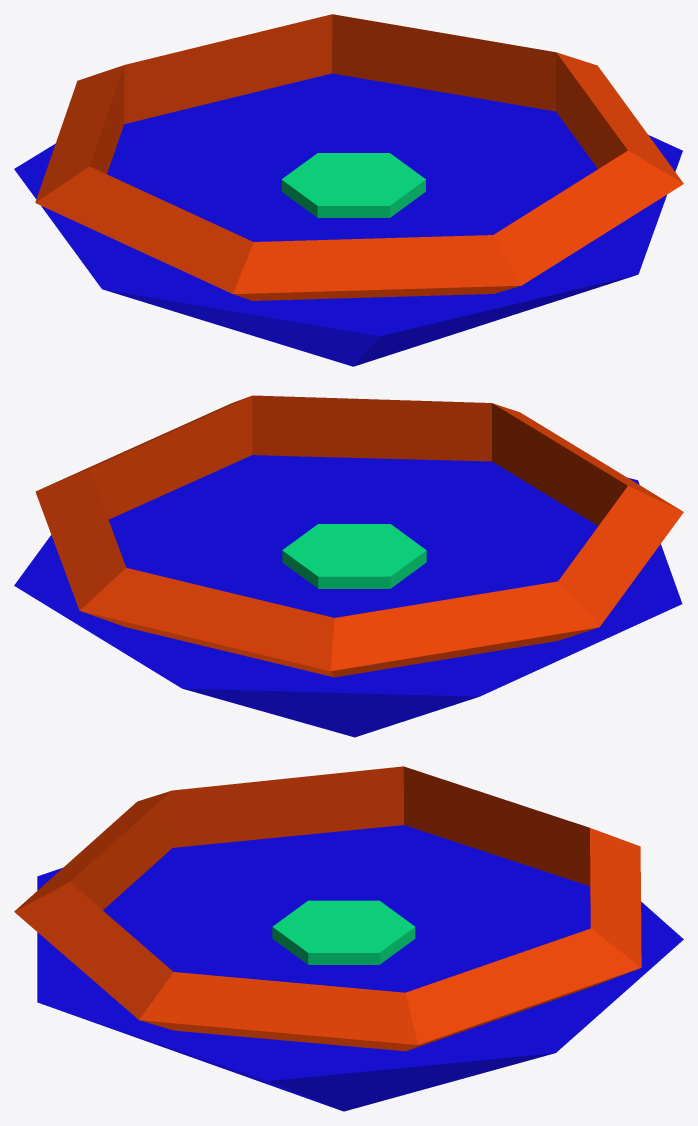
The model's file is blade1.glb.
3 renders of one model, top to bottom at view 1: azimuth 30°, elevation 25°; view 2: azimuth 150°, elevation 25°; view 3: azimuth 270°, elevation 25°, orthographic.
Parts seen in each view (by area): view 1: Cone, Torus, Cylinder; view 2: Cone, Torus, Cylinder; view 3: Cone, Torus, Cylinder.
Part boxes in pixels (x1,y1,x2,y2): Cone: [14, 73, 682, 366]; Torus: [35, 14, 683, 300]; Cylinder: [281, 153, 425, 217]; Cone: [14, 455, 682, 737]; Torus: [35, 395, 683, 677]; Cylinder: [282, 524, 426, 588]; Cone: [37, 825, 683, 1111]; Torus: [14, 766, 641, 1051]; Cylinder: [272, 900, 415, 964].
Size of the model in its own units: 1.95 by 0.7575 by 1.97.
